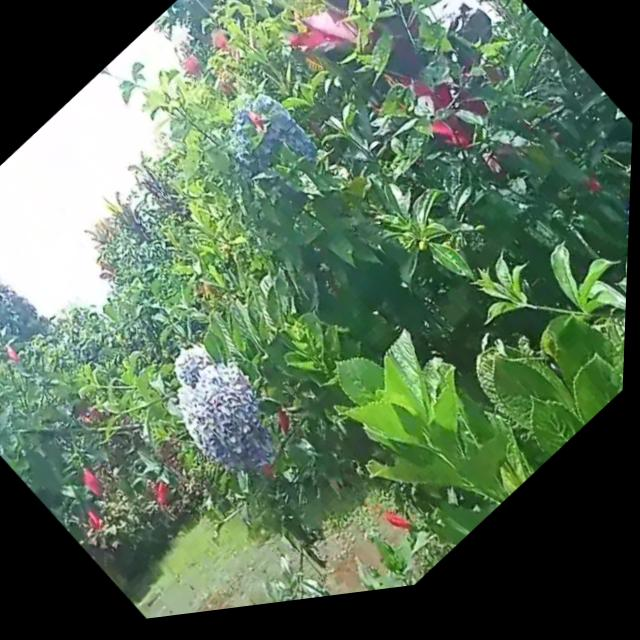Flower: (136, 318, 306, 509), (613, 197, 632, 283)
